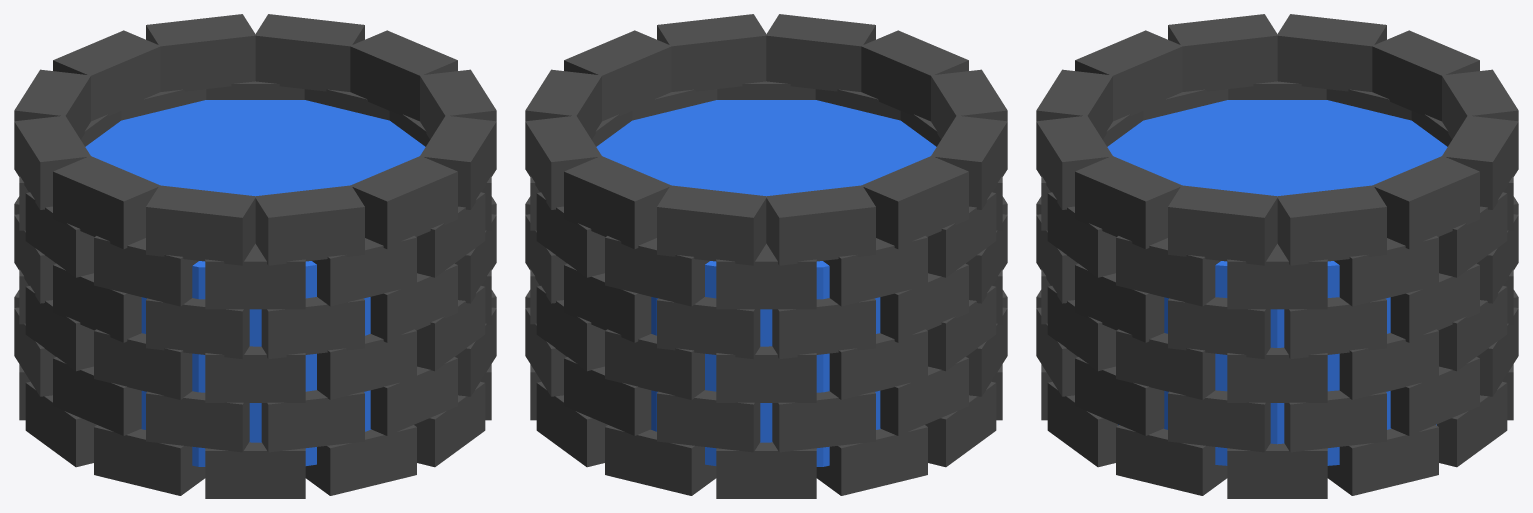
Rendered from Brunnen_Hindernis.fbx.
3 views of the same model, side by side, from view 1: azimuth 30°, elevation 25°; view 2: azimuth 150°, elevation 25°; view 3: azimuth 270°, elevation 25° (orthographic).
Visible parts, largest first — view 1: Zylinder.006, Würfel.160, Würfel.159, Würfel.153, Würfel.154, Würfel.158, Würfel.161, Würfel.152, Würfel.155, Würfel.098, Würfel.111, Würfel.100 (+33 smaller); view 2: Zylinder.006, Würfel.163, Würfel.152, Würfel.158, Würfel.157, Würfel.153, Würfel.162, Würfel.156, Würfel.159, Würfel.092, Würfel.104, Würfel.102 (+33 smaller); view 3: Zylinder.006, Würfel.156, Würfel.155, Würfel.161, Würfel.162, Würfel.154, Würfel.157, Würfel.160, Würfel.163, Würfel.094, Würfel.096, Würfel.107 (+33 smaller).
Part boxes in pixels (x1,y1,x2,y2): Zylinder.006: (85, 100, 425, 466); Würfel.160: (146, 185, 255, 265); Würfel.159: (255, 185, 364, 265); Würfel.153: (146, 14, 255, 91); Würfel.154: (255, 14, 364, 91); Würfel.158: (350, 156, 457, 249); Würfel.161: (53, 156, 159, 249); Würfel.152: (53, 30, 160, 121); Würfel.155: (350, 30, 457, 121); Würfel.098: (305, 425, 416, 495); Würfel.111: (261, 390, 364, 452); Würfel.100: (94, 425, 205, 495); Zylinder.006: (596, 100, 936, 466); Würfel.163: (766, 185, 875, 265); Würfel.152: (657, 185, 766, 265); Würfel.158: (766, 14, 875, 91); Würfel.157: (657, 14, 766, 91); Würfel.153: (564, 156, 671, 249); Würfel.162: (862, 156, 968, 249); Würfel.156: (564, 30, 671, 121); Würfel.159: (861, 30, 968, 121); Würfel.092: (605, 425, 716, 495); Würfel.104: (657, 390, 760, 452); Würfel.102: (816, 425, 927, 495); Zylinder.006: (1107, 100, 1447, 465); Würfel.156: (1168, 185, 1277, 265); Würfel.155: (1277, 185, 1386, 265); Würfel.161: (1168, 14, 1277, 91); Würfel.162: (1277, 14, 1386, 91); Würfel.154: (1372, 156, 1479, 249); Würfel.157: (1075, 156, 1182, 249); Würfel.160: (1075, 30, 1182, 121); Würfel.163: (1372, 30, 1479, 121); Würfel.094: (1327, 425, 1438, 495); Würfel.096: (1116, 425, 1227, 495); Würfel.107: (1284, 390, 1386, 452).
Bounding box in the file's own units: 245 × 159 × 245.
